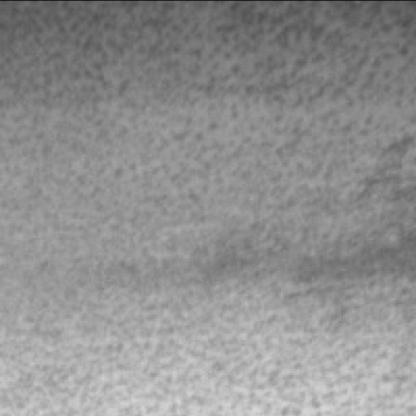pitted_surface: (6, 6, 414, 260), (8, 189, 414, 410)
